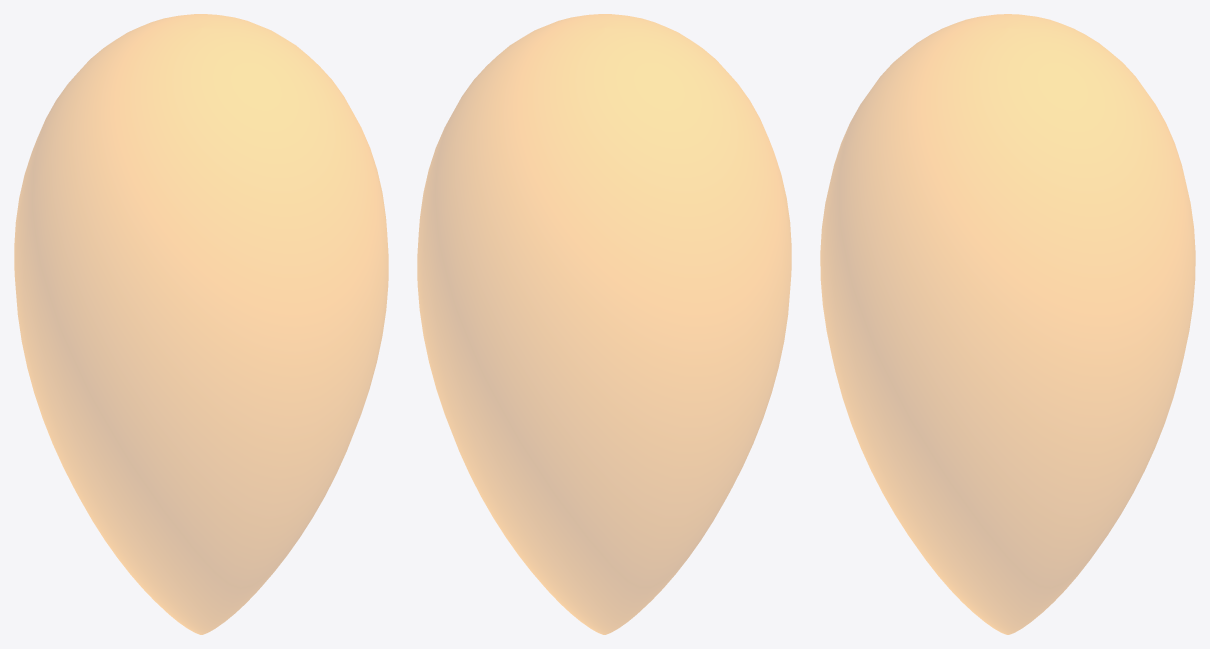
Rendered from honey_drop.glb.
3 views of the same model, side by side, from view 1: azimuth 30°, elevation 25°; view 2: azimuth 150°, elevation 25°; view 3: azimuth 270°, elevation 25° (orthographic).
Visible parts, largest first — view 1: HoneyDropCore; view 2: HoneyDropCore; view 3: HoneyDropCore.
Part boxes in pixels (left/top/right/bottom): HoneyDropCore: left=14, top=14, right=388, bottom=634; HoneyDropCore: left=417, top=14, right=791, bottom=634; HoneyDropCore: left=820, top=14, right=1195, bottom=634.
Bounding box in the file's own units: 1.35 × 2.4 × 1.35.
